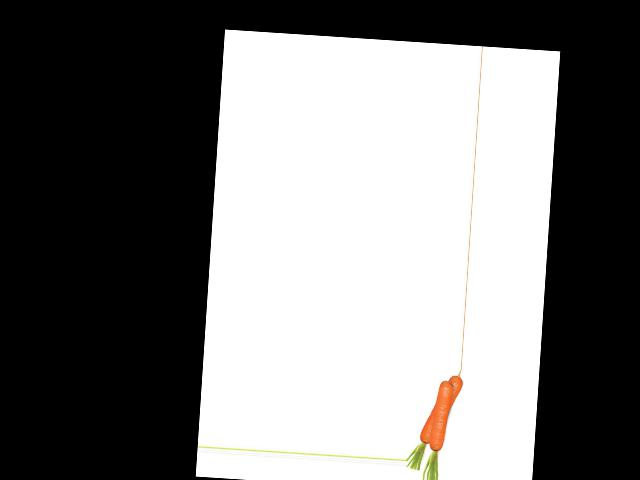carrot: (419, 367, 462, 451)
